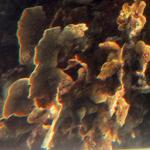alive: (4, 3, 148, 146)
